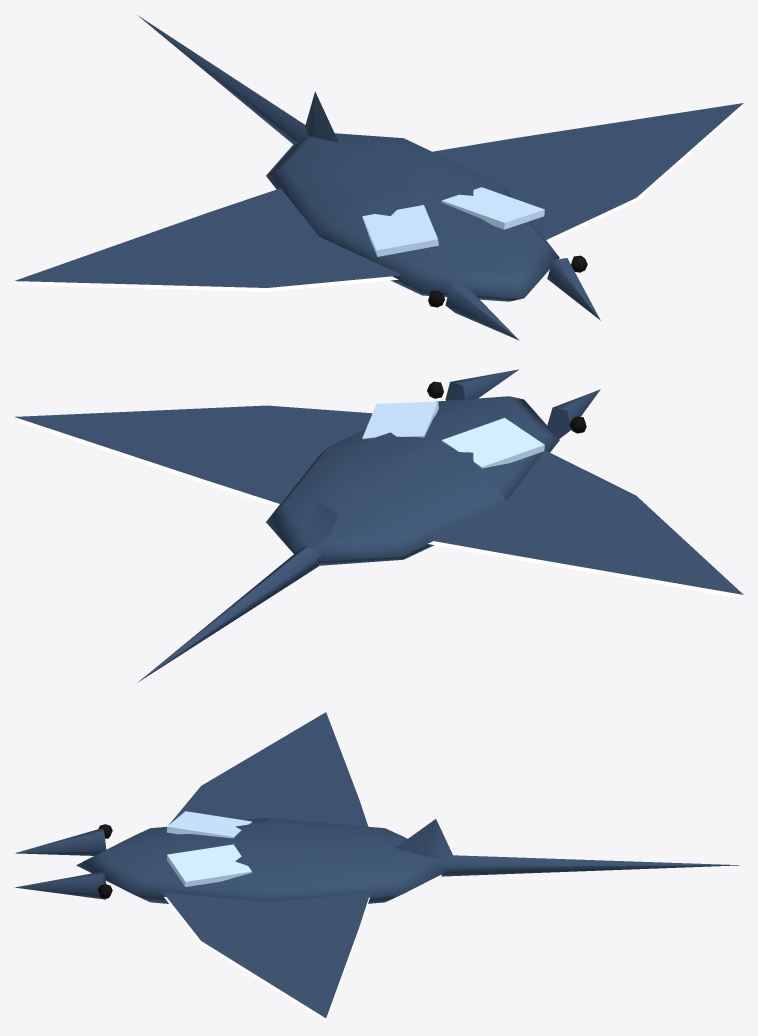
The model's file is manta-ray.glb.
The picture shows the model from 3 angles, top to bottom: view 1: azimuth 30°, elevation 25°; view 2: azimuth 150°, elevation 25°; view 3: azimuth 270°, elevation 25°; orthographic projection. The views are drawn at different scales.
Parts seen in each view (by area): view 1: manta-ray, wing-L, wing-R; view 2: manta-ray, wing-L, wing-R; view 3: manta-ray, wing-R, wing-L.
Boxes of the visible parts, <box> form: manta-ray: <box>137,15,600,340</box>; wing-L: <box>15,188,401,291</box>; wing-R: <box>432,103,743,242</box>; manta-ray: <box>137,369,600,682</box>; wing-L: <box>426,450,743,598</box>; wing-R: <box>14,405,372,506</box>; manta-ray: <box>14,811,739,903</box>; wing-R: <box>163,892,370,1021</box>; wing-L: <box>169,712,368,826</box>.
Size of the model in its own units: 3.48 by 0.3766 by 3.5.
